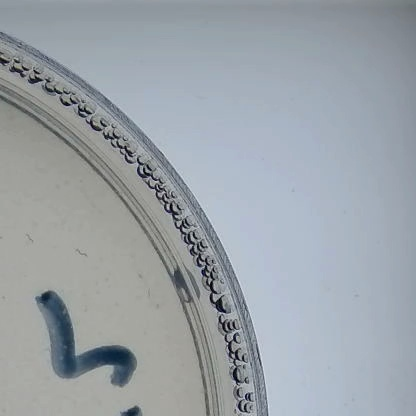worm: (72, 247, 91, 259), (23, 231, 39, 244)
